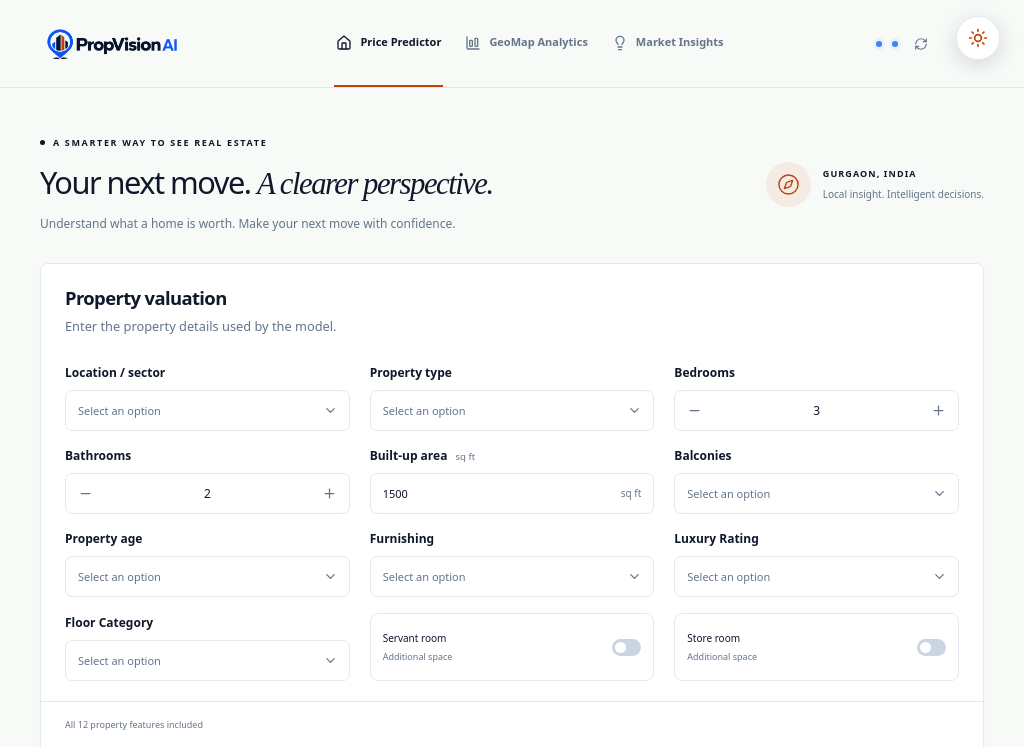
Test: brand navigation opens the predictor URL and direct routes survive reload
This screenshot has width=1024, height=747.
What coordinates should you click on to do the following:
click the tab "GeoMap Analytics"
I would click on:
 (527, 44)
Its box is [463,0,590,87].
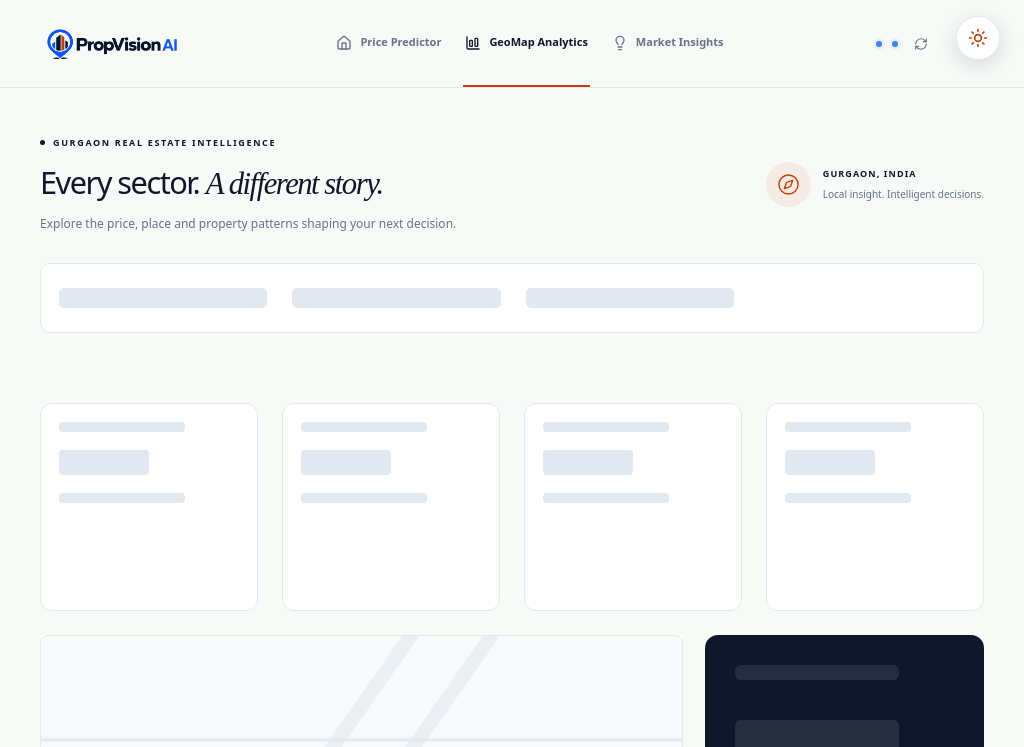
What coordinates should you click on to do the following:
click the link named "PropVision AI home"
I would click on:
 (112, 44)
Its box is [40,20,184,68].
(page scrolled)
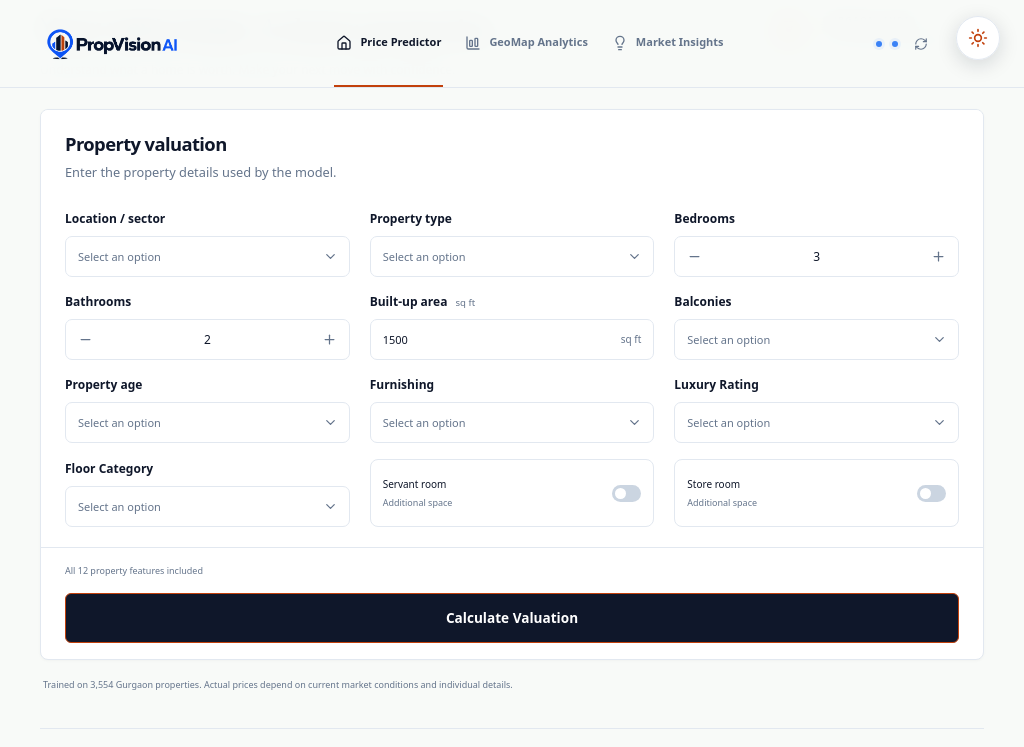
expect the form named "House price predictor" is shown: met
